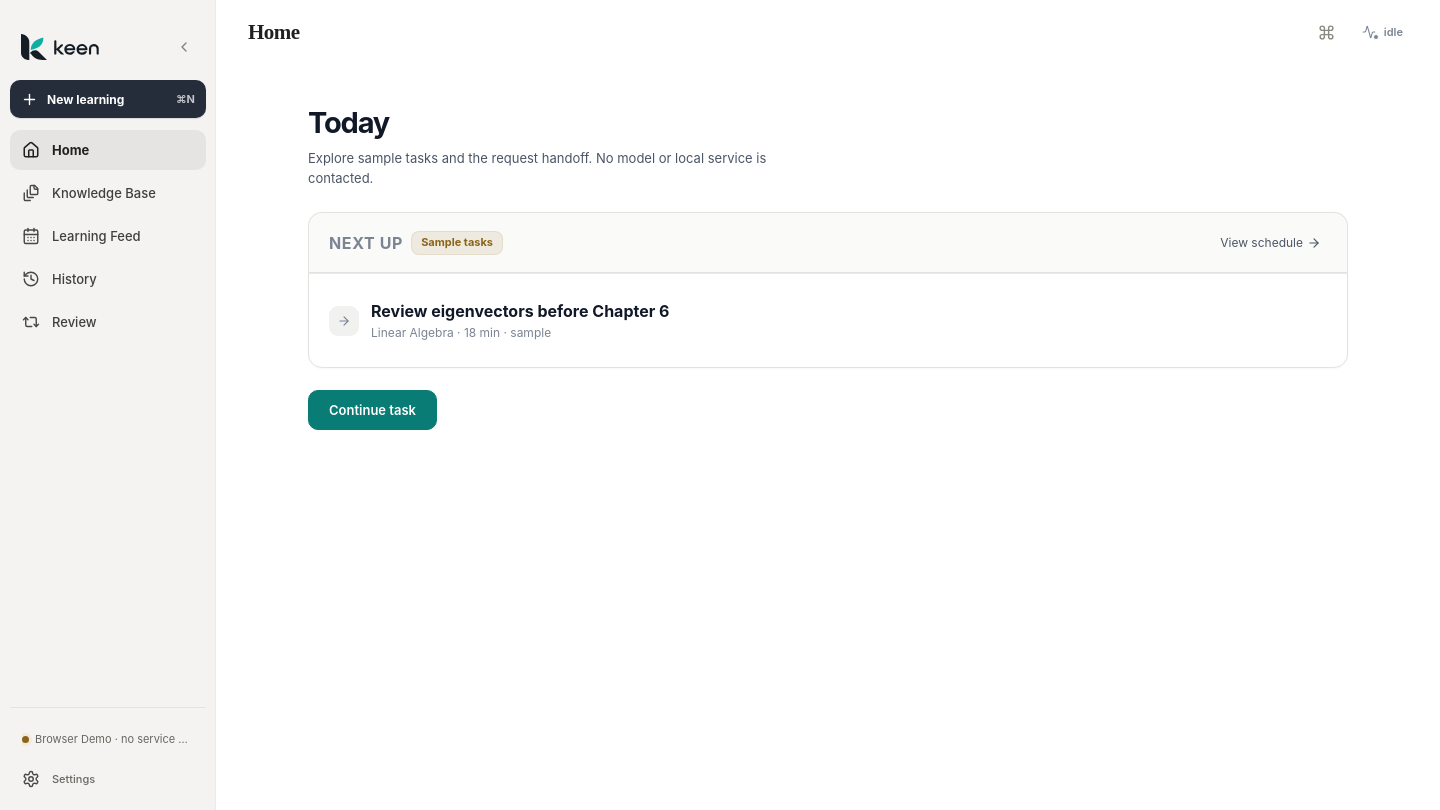
Scenario: desktop workflow › keeps the sidebar recoverable after it is collapsed
What coordinates should you click on to do the following:
click the button named "Collapse sidebar"
I would click on:
 (183, 47)
Its box is [169, 33, 197, 61].
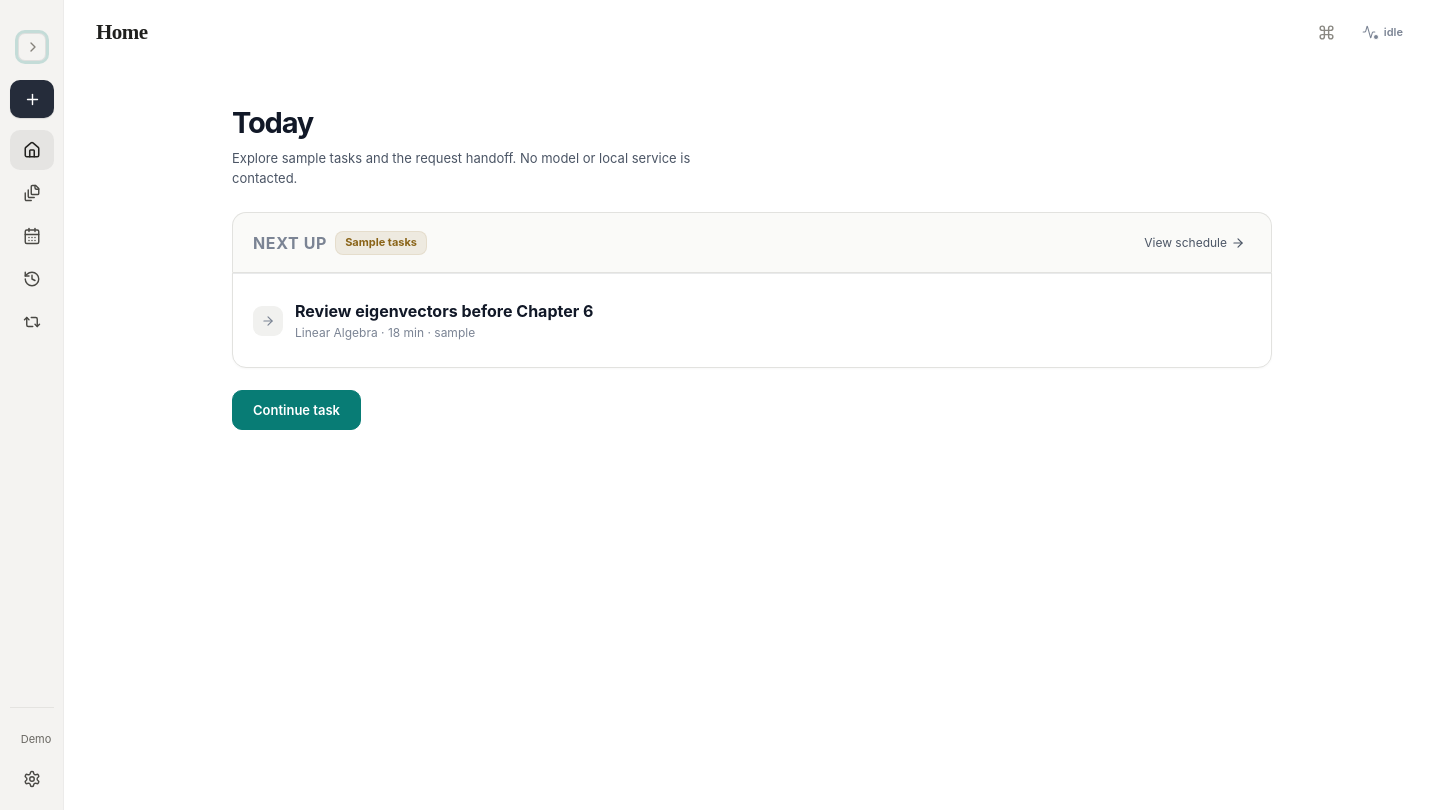
Expected: the text "Demo" is shown, [21, 732, 51, 746]
Expected: the element with class "app-shell" has class "is-collapsed"
What coordinates should you click on to do the following:
click the button named "Expand sidebar"
I would click on:
 (32, 47)
Its box is [18, 33, 46, 61].
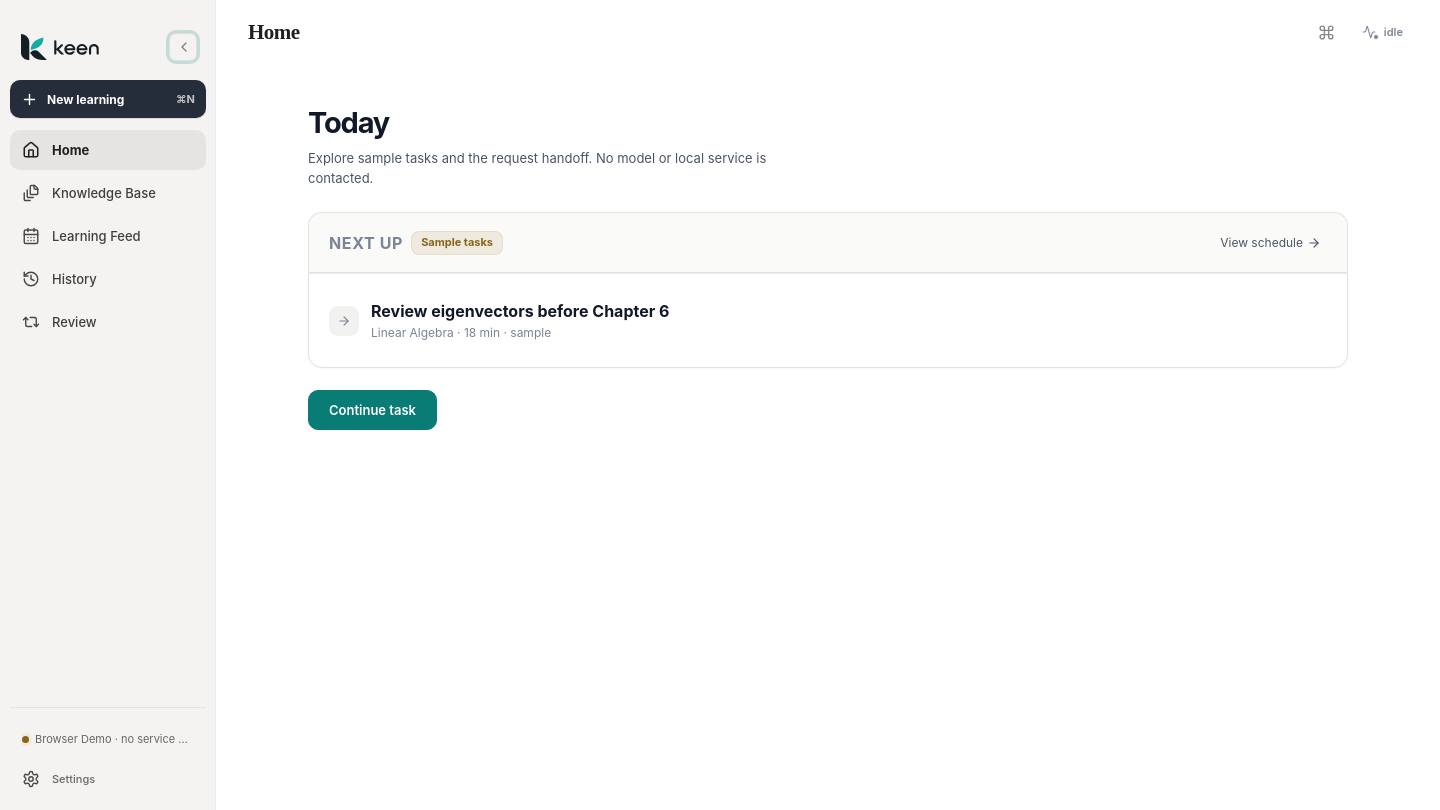
Expected: the button named "Collapse sidebar" is shown, [169, 33, 197, 61]
